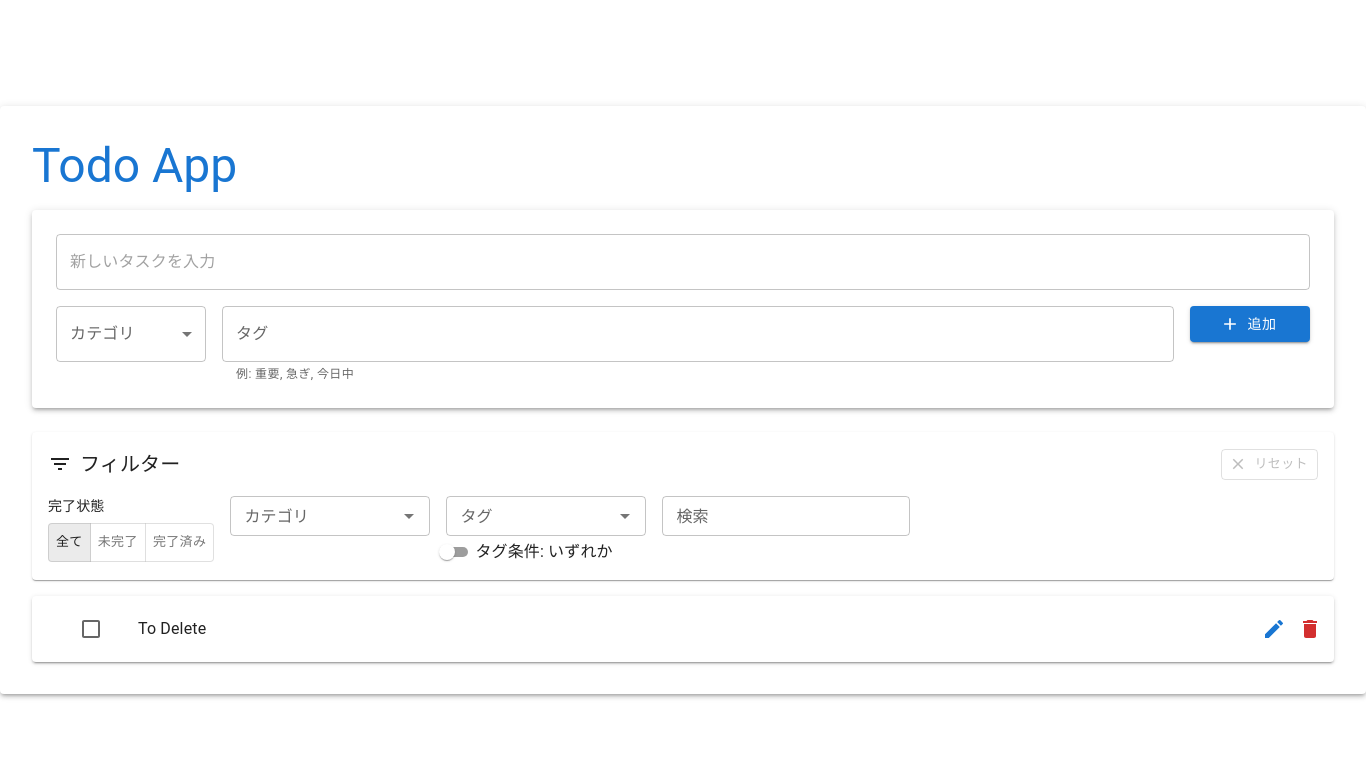
Test: TodoApp (API) › deletes todo via API
The image size is (1366, 768).
Expected: the text "To Delete" is shown, [138,620,206,638]
Click the button named "delete" at (1310, 630), box [1290,610,1330,650]
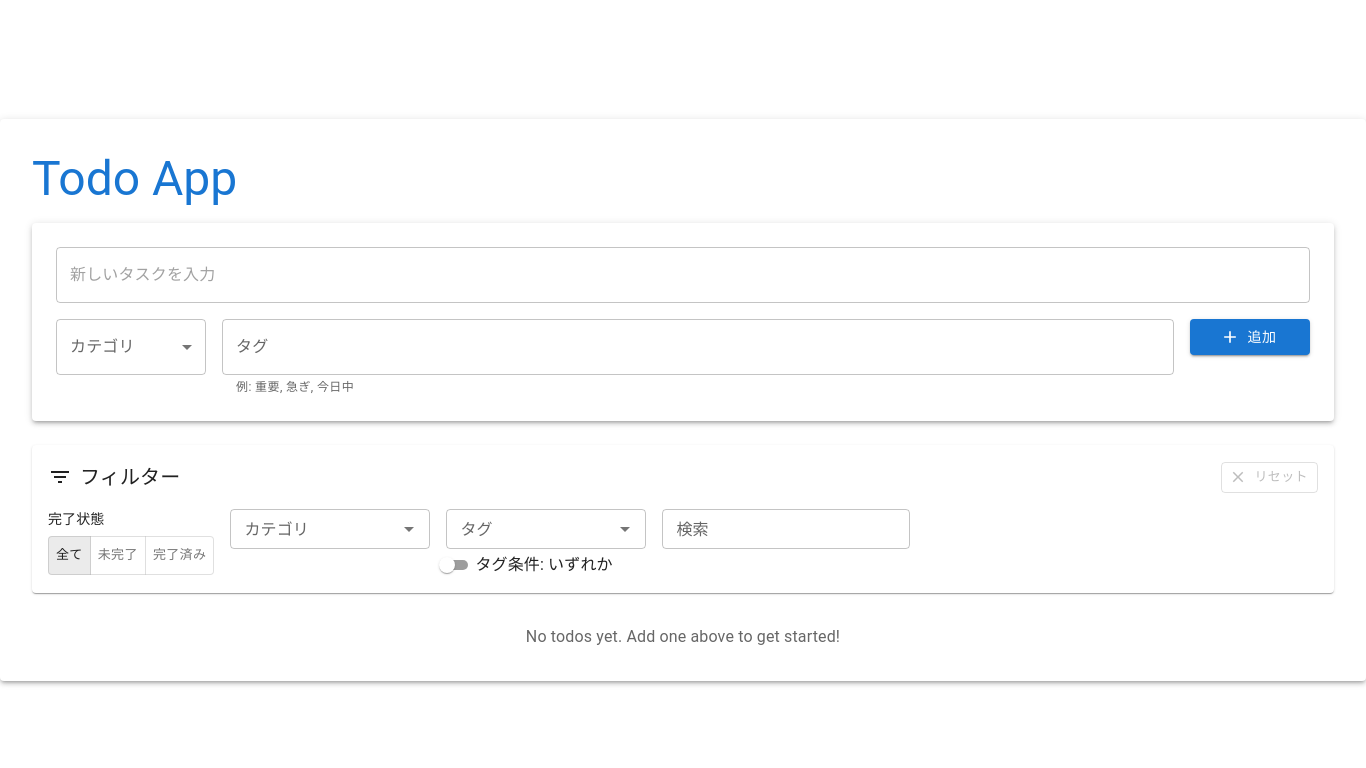
Result: the button "To Delete" is gone
